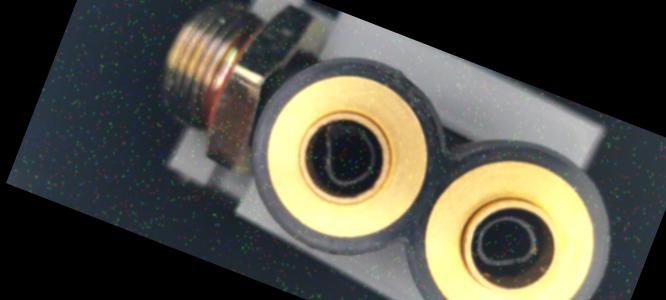bump: (384, 59, 448, 110)
off-centered: (454, 198, 550, 290), (302, 110, 389, 198)
